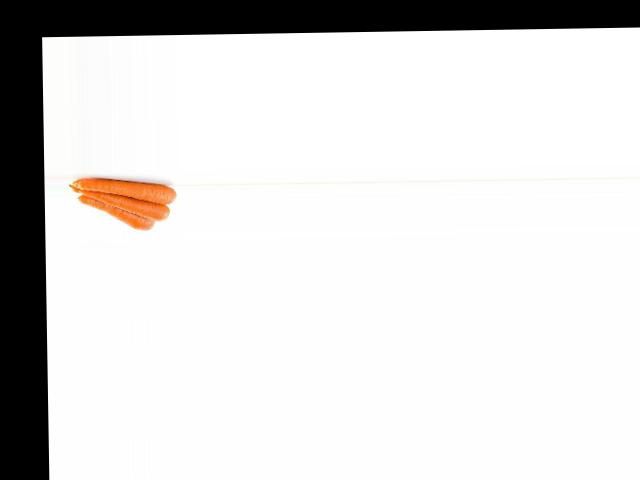carrot: (73, 171, 180, 206)
